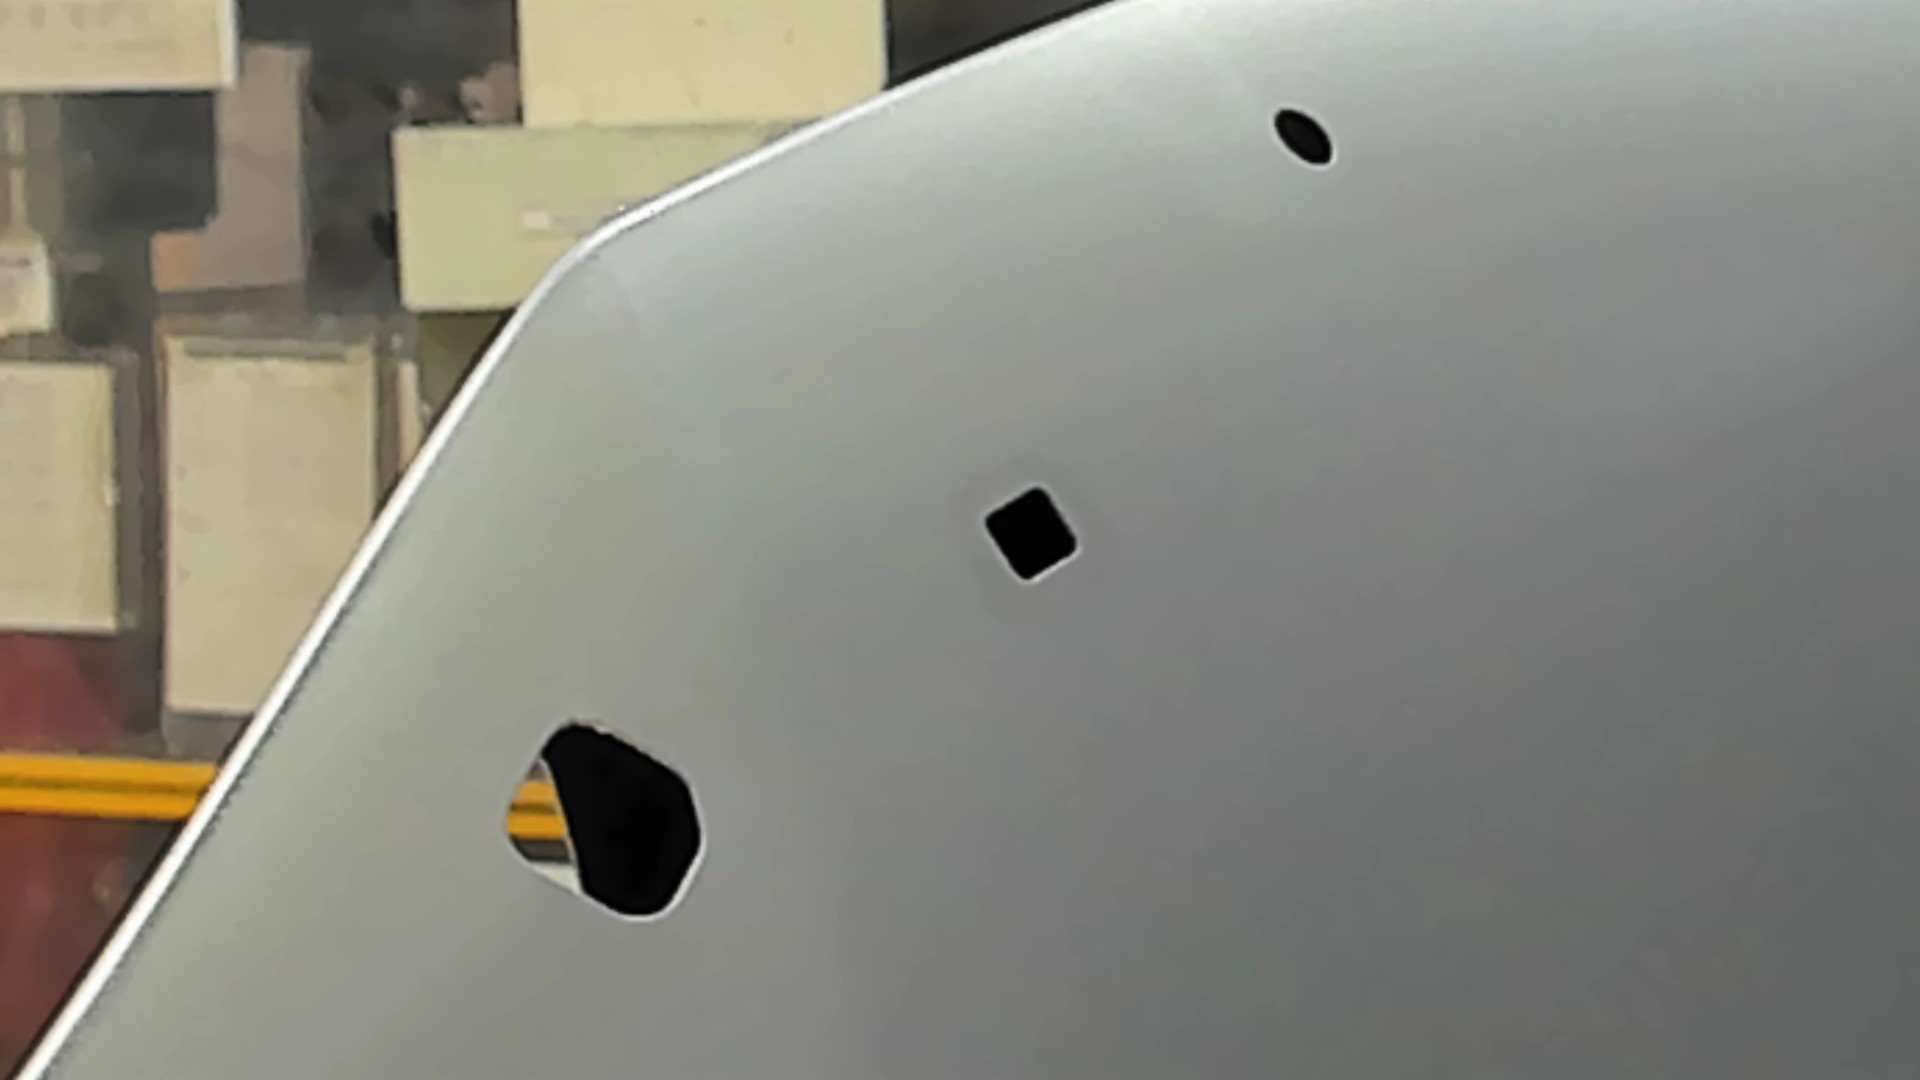chico: (1271, 105, 1336, 169)
grande: (500, 715, 705, 927)
mediano: (982, 483, 1083, 585)
